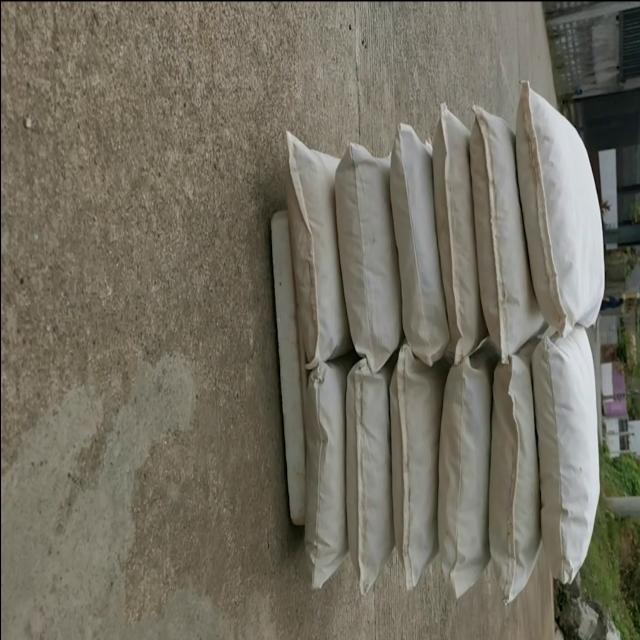Sack: (515, 82, 608, 338), (471, 89, 543, 359), (530, 330, 600, 592), (295, 370, 367, 602), (429, 95, 489, 368), (432, 359, 497, 609), (385, 122, 451, 368), (329, 136, 397, 368), (278, 126, 342, 361), (485, 363, 543, 607), (391, 357, 445, 594), (346, 362, 396, 596)
